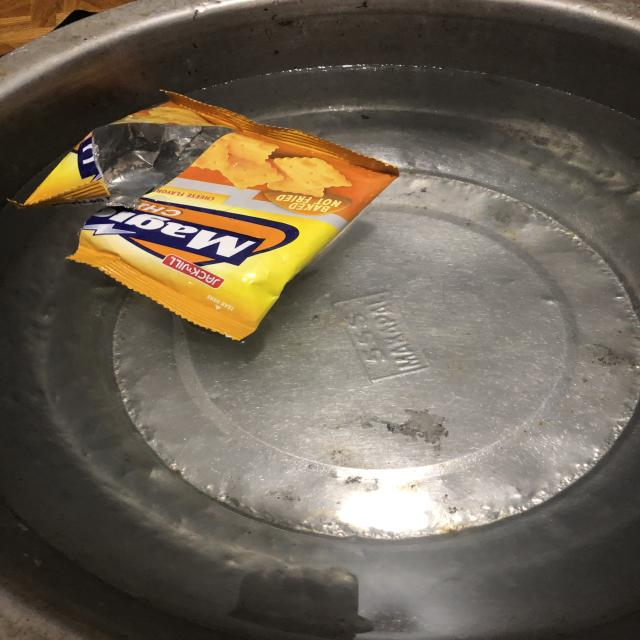Plastic Wrapper: (24, 91, 399, 339)
